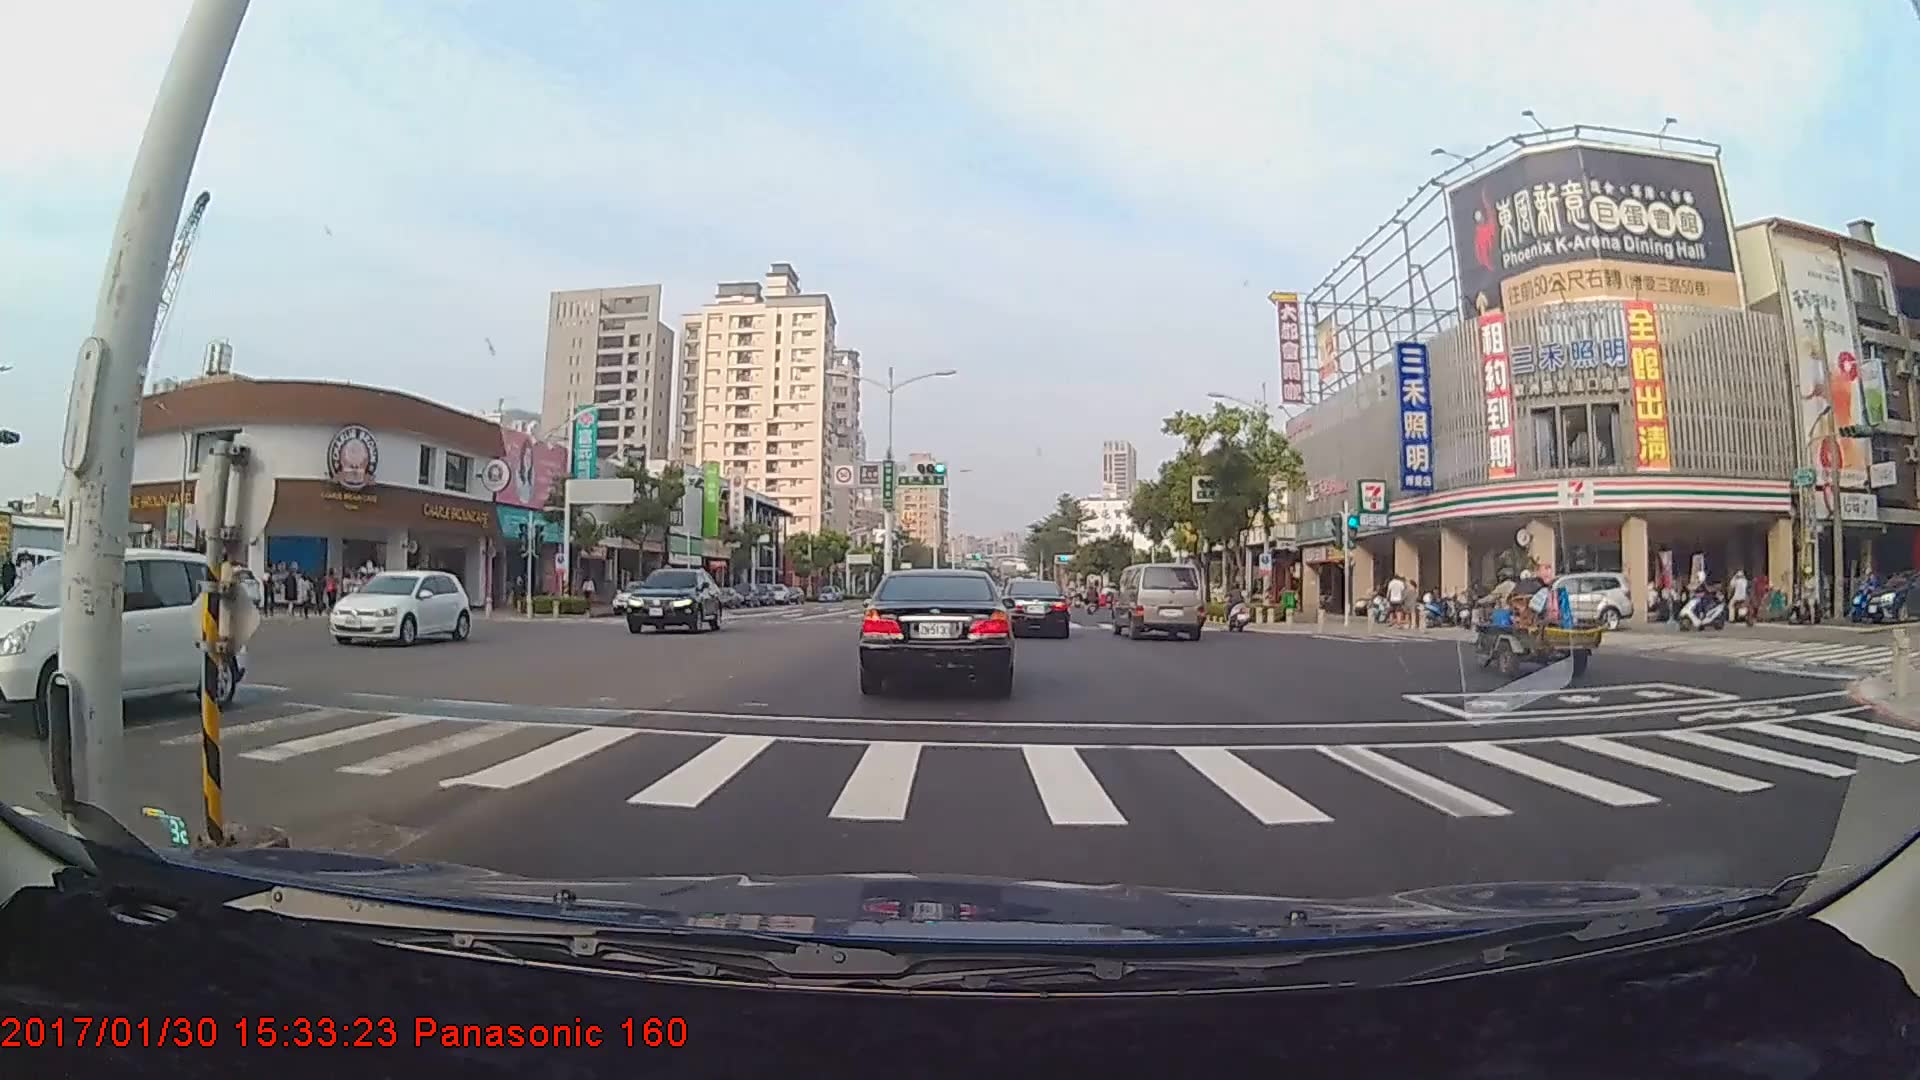pedestrian: (1, 549, 21, 615), (1385, 572, 1406, 629)
rider: (1674, 568, 1738, 638), (1216, 582, 1256, 636)
vehicle: (0, 546, 249, 719), (859, 563, 1014, 695), (327, 569, 469, 646), (1477, 574, 1629, 634), (1113, 562, 1203, 641), (624, 566, 723, 635), (999, 579, 1070, 639)
